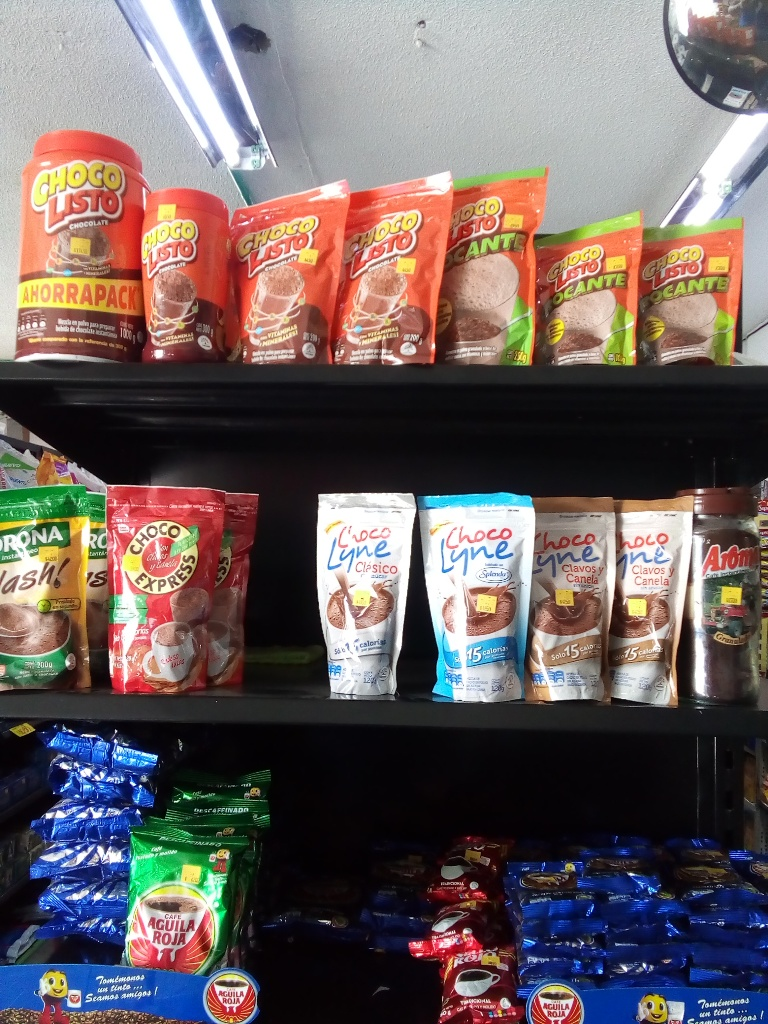COL0170102DYP10000: (532, 209, 641, 366)
COL0170102DYP25000: (441, 166, 544, 362)
COL0170103DYP20000: (241, 190, 352, 362)
COL0170103TRR00100: (5, 122, 153, 359)
COL0170103TRR30000: (137, 189, 237, 366)
